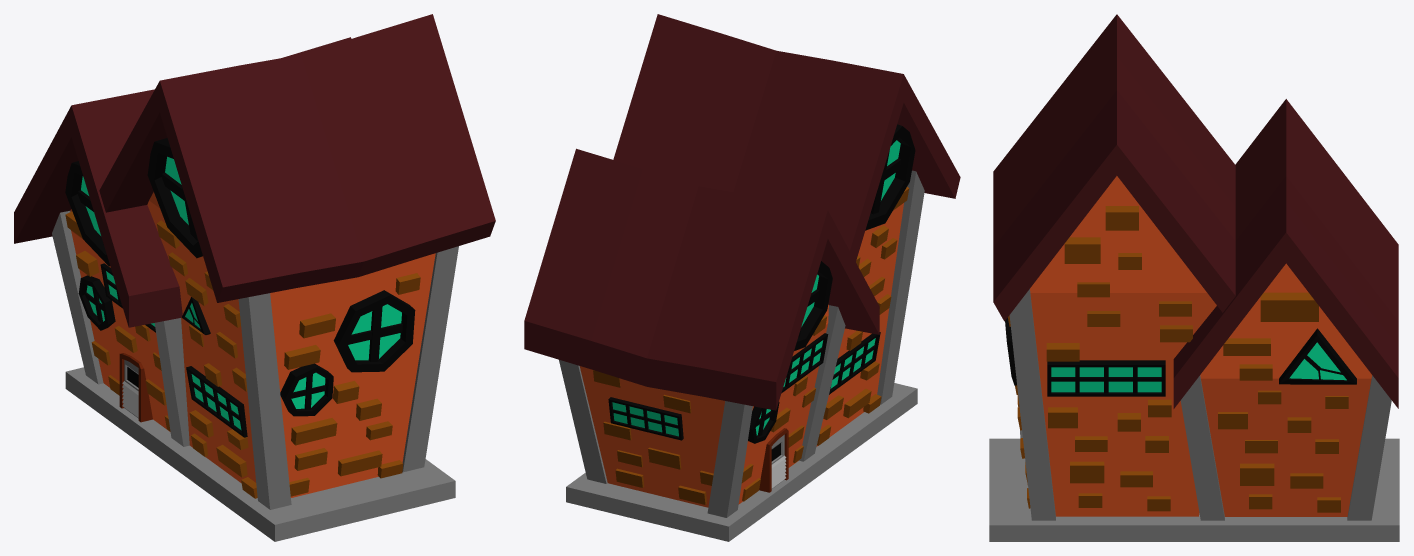
File: Casarao.fbx
3 views of the same model, side by side, from view 1: azimuth 30°, elevation 25°; view 2: azimuth 150°, elevation 25°; view 3: azimuth 270°, elevation 25° (orthographic). The views are drawn at different scales.
Parts seen in each view (by area): view 1: Casarao; view 2: Casarao; view 3: Casarao.
Boxes of the visible parts, box(x1,y1,x2,y2) form: Casarao: box(14, 14, 495, 541); Casarao: box(524, 14, 960, 541); Casarao: box(989, 14, 1399, 541).
Size of the model in its own units: 929 by 1353 by 1205.
